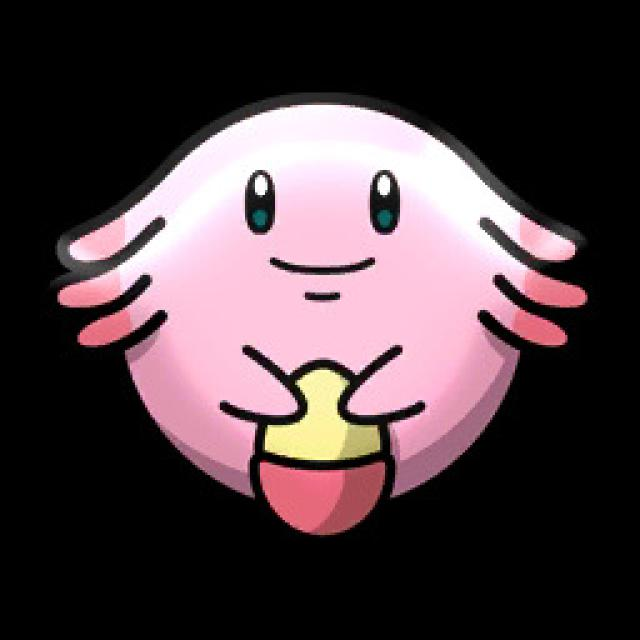Chansey: (53, 94, 587, 536)
